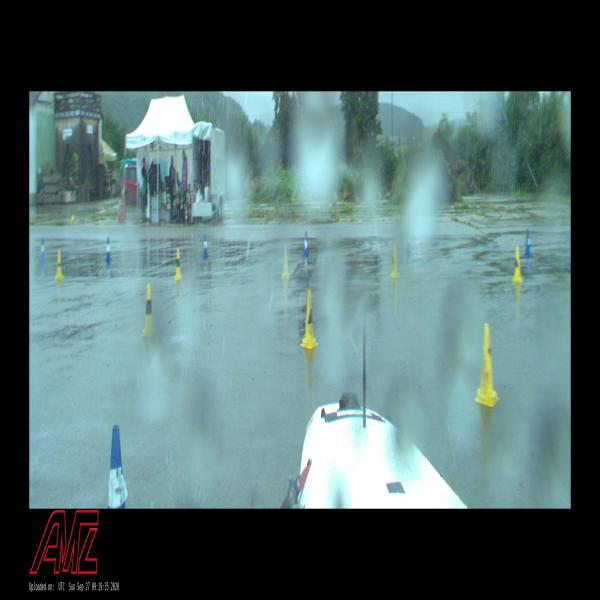blue_cone: (107, 425, 126, 508), (525, 231, 531, 256), (203, 234, 208, 258), (106, 238, 111, 262), (40, 239, 45, 262), (304, 232, 308, 256)
yellow_cone: (475, 325, 499, 406), (300, 290, 318, 348), (143, 283, 152, 332), (512, 249, 522, 281), (174, 249, 182, 281), (282, 245, 289, 279), (55, 249, 62, 278), (391, 245, 397, 277)
